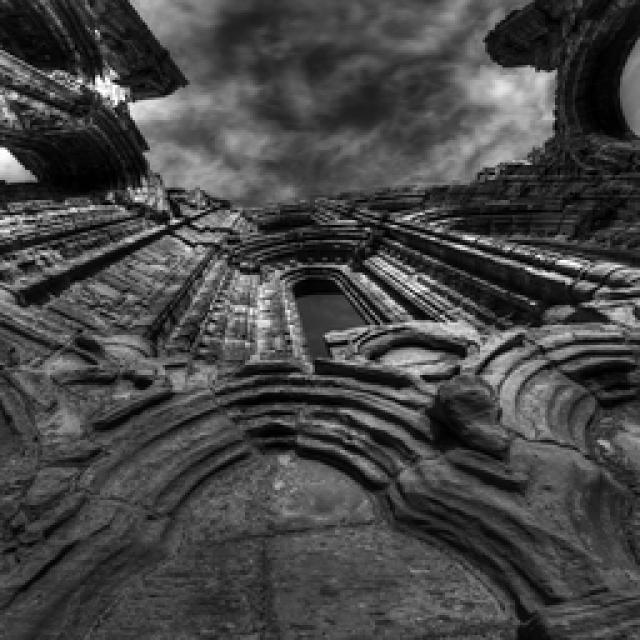Abbey: (13, 38, 639, 640)
